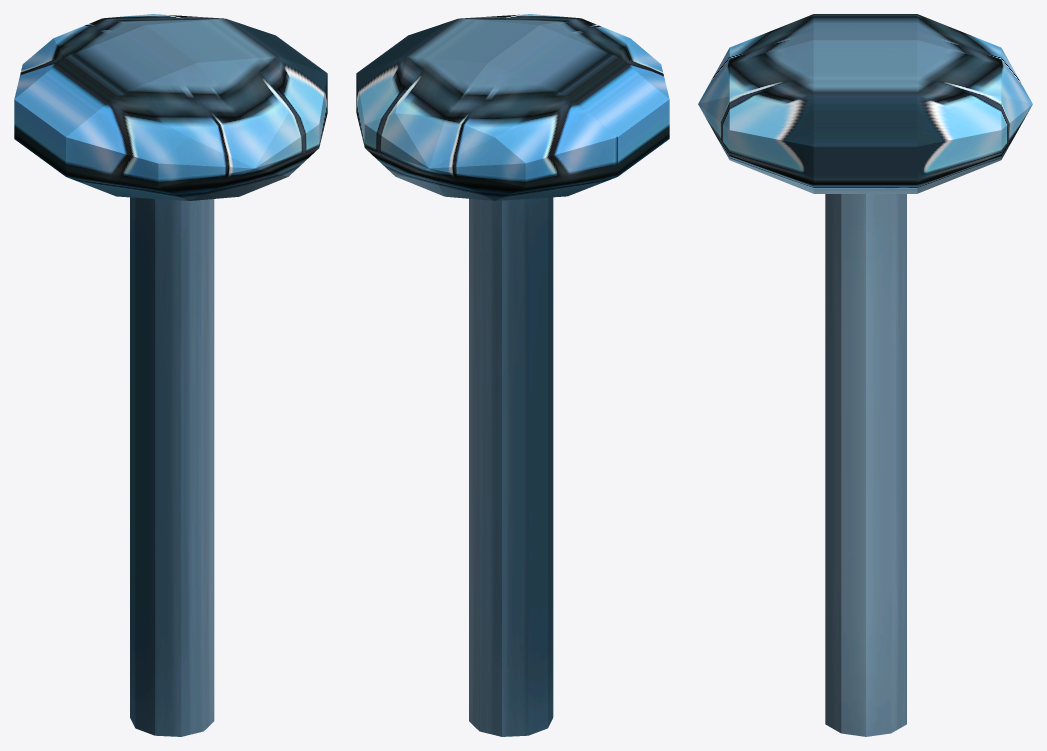
File: TowerW.glb
3 views of the same model, side by side, from view 1: azimuth 30°, elevation 25°; view 2: azimuth 150°, elevation 25°; view 3: azimuth 270°, elevation 25° (orthographic).
Visible parts, largest first — view 1: TowerW; view 2: TowerW; view 3: TowerW.
Part boxes in pixels (x1,y1,x2,y2): TowerW: [14, 14, 327, 736]; TowerW: [356, 14, 669, 736]; TowerW: [698, 14, 1032, 736].
Size of the model in its own units: 215 by 531 by 238.
1 material, 1 textured.
